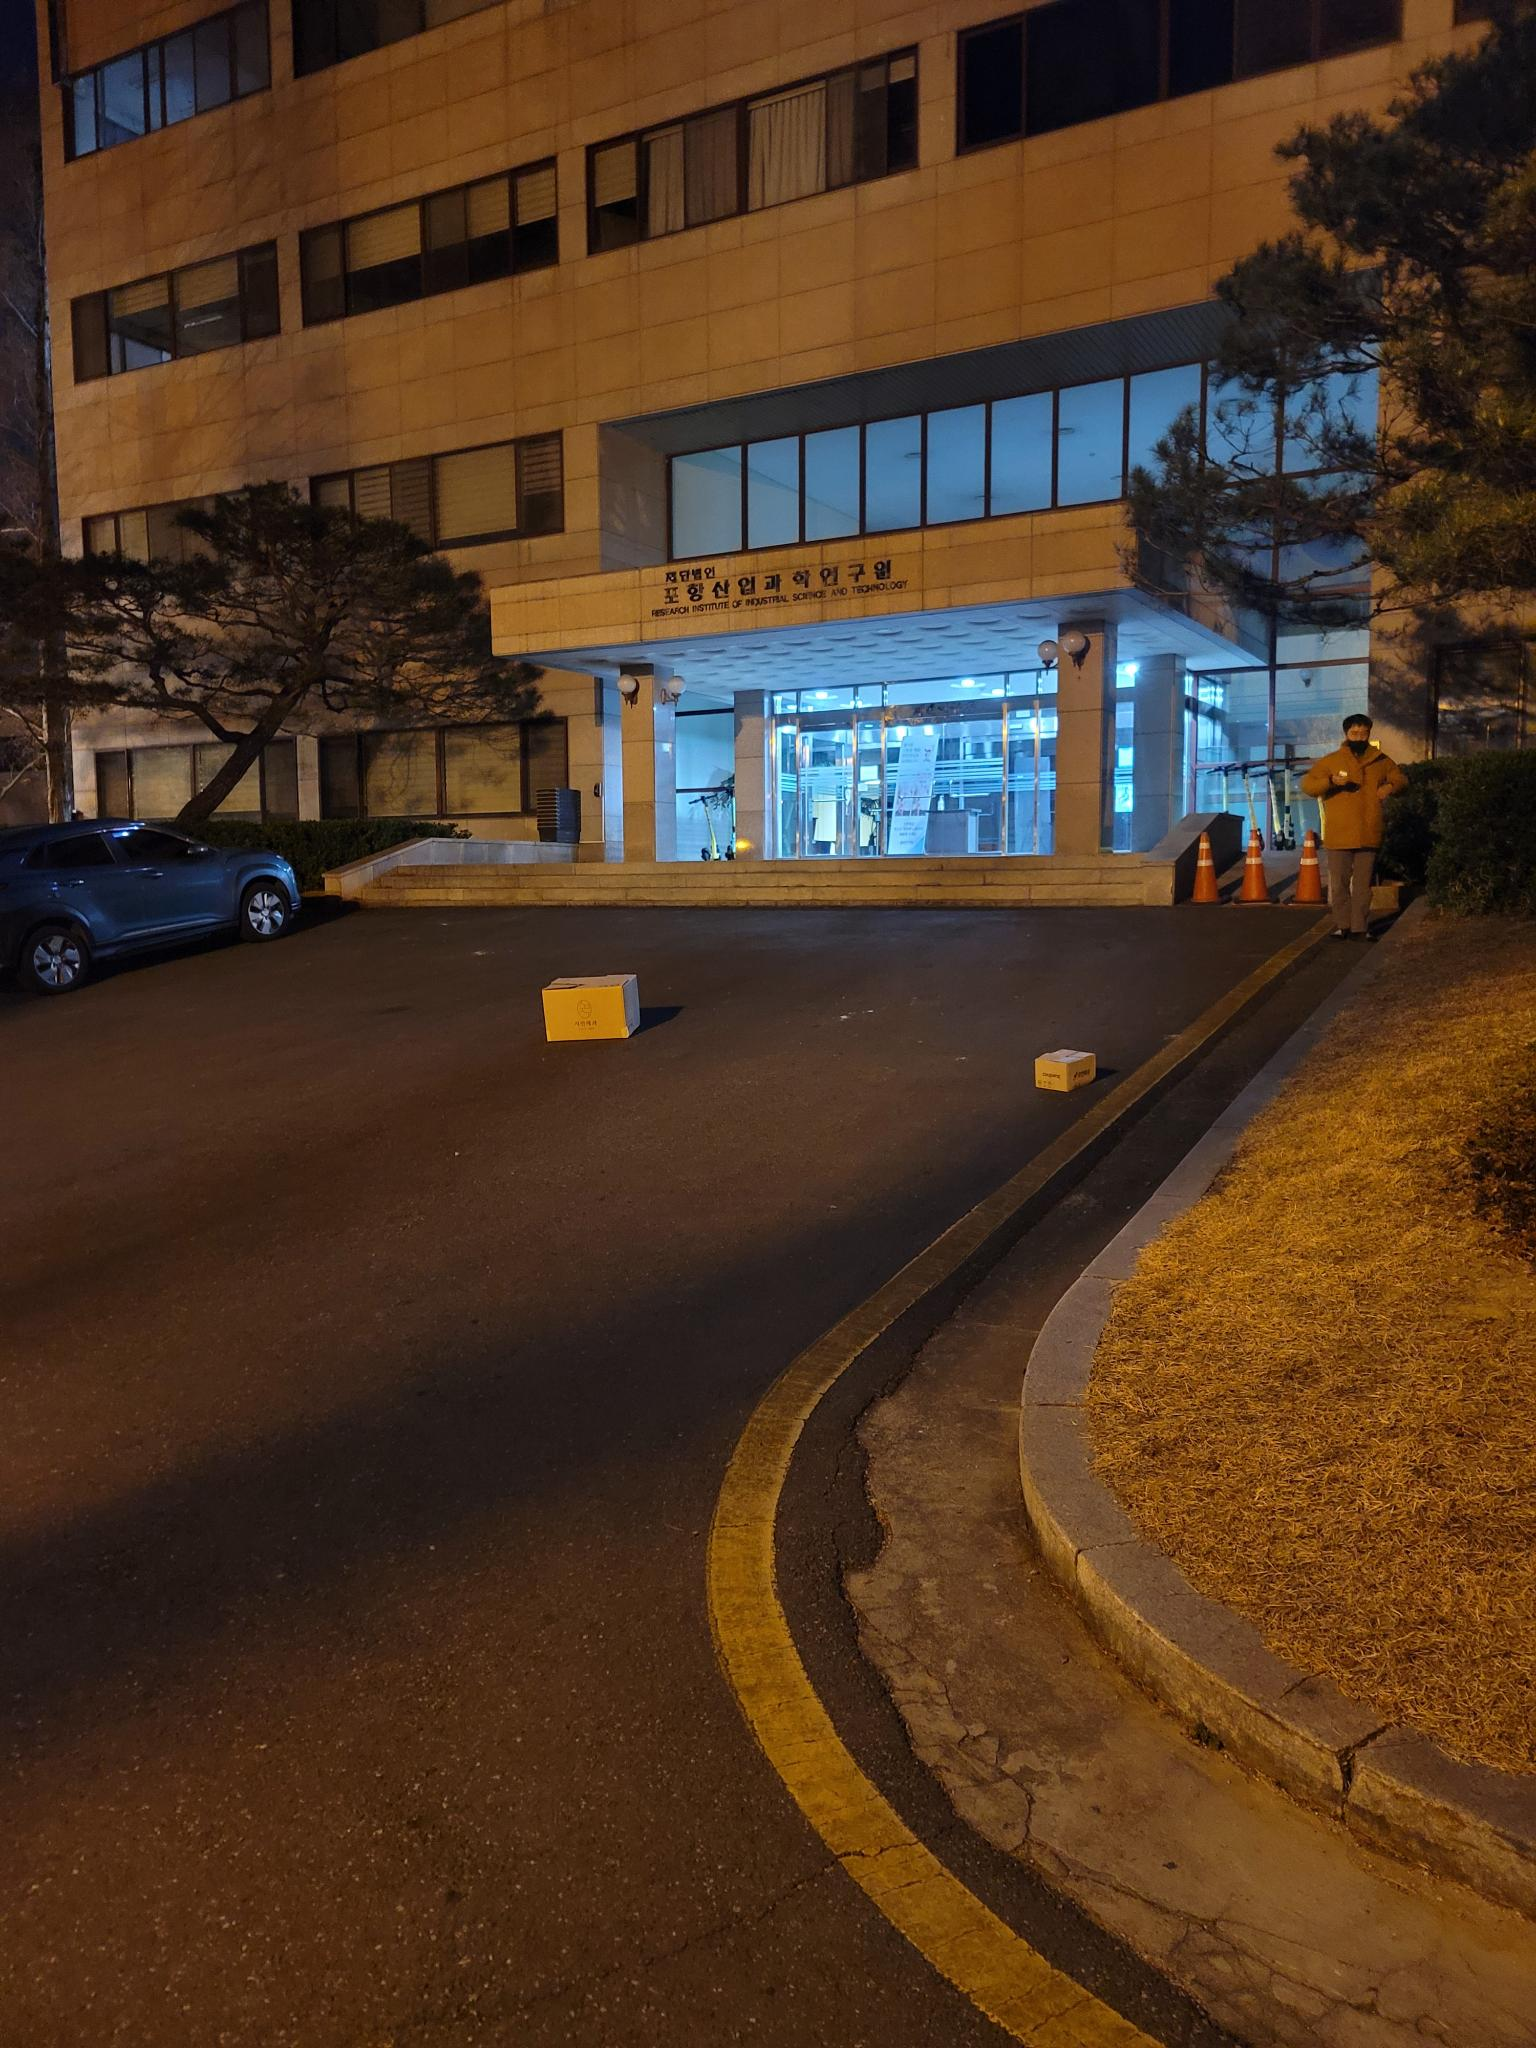Box: (534, 969, 665, 1050), (1031, 1040, 1087, 1089)
